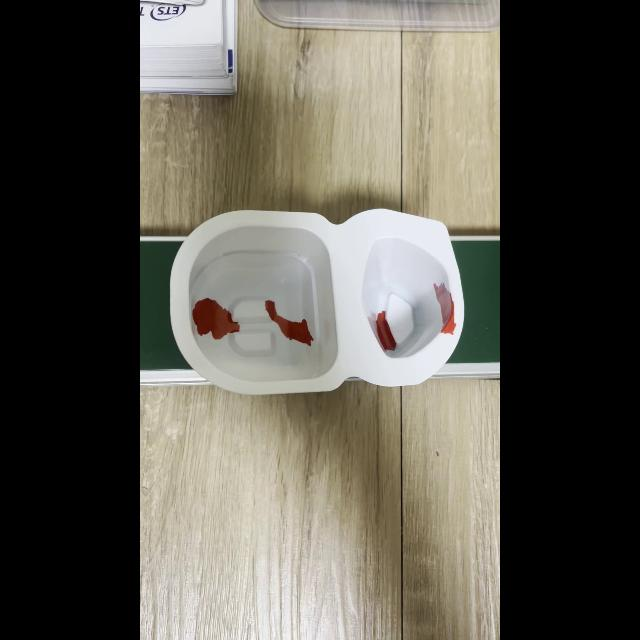dirty: (174, 234, 456, 376)
